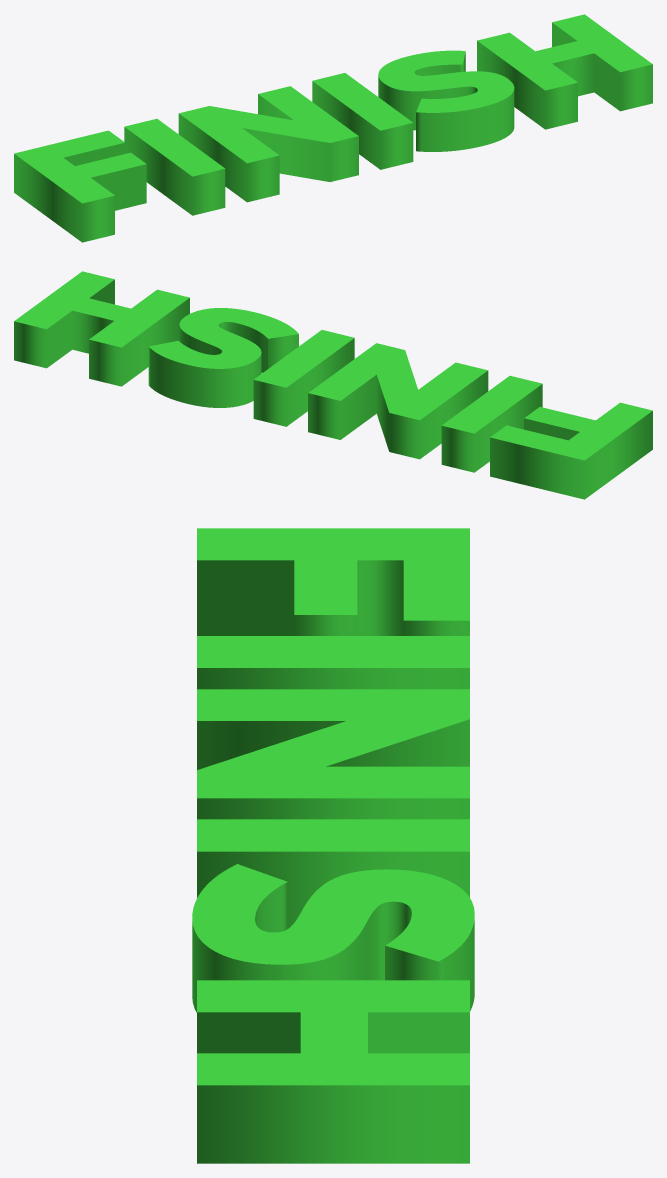
Rendered from Finish.fbx.
3 views of the same model, one above another, from view 1: azimuth 30°, elevation 25°; view 2: azimuth 150°, elevation 25°; view 3: azimuth 270°, elevation 25° (orthographic). The views are drawn at different scales.
Parts seen in each view (by area): view 1: Text; view 2: Text; view 3: Text.
Part boxes in pixels (x1,y1,x2,y2): Text: (14,14,652,242); Text: (14,271,652,499); Text: (192,528,474,1163).
Size of the model in its own units: 306 by 20 by 65.52.
